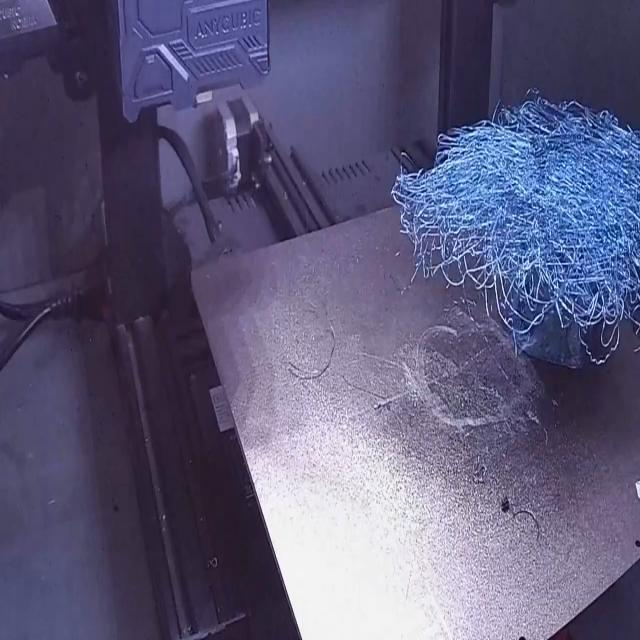spaghetti: (390, 89, 640, 372), (497, 485, 551, 553), (376, 401, 398, 417)
